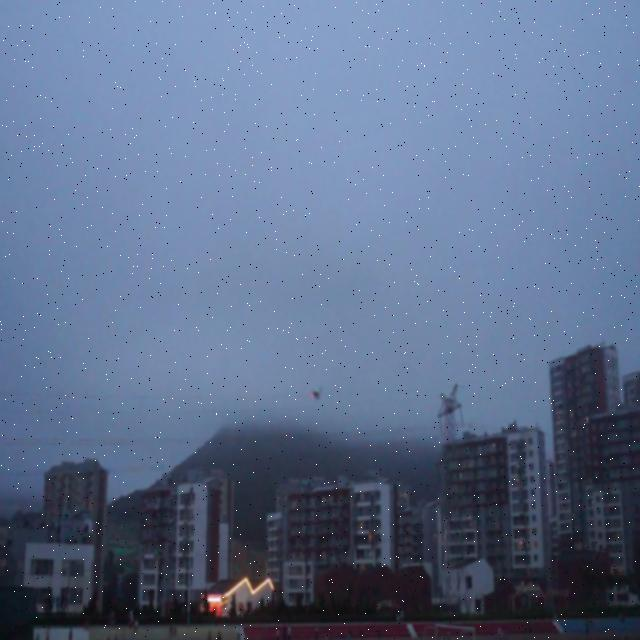UAV: (310, 388, 320, 401)
